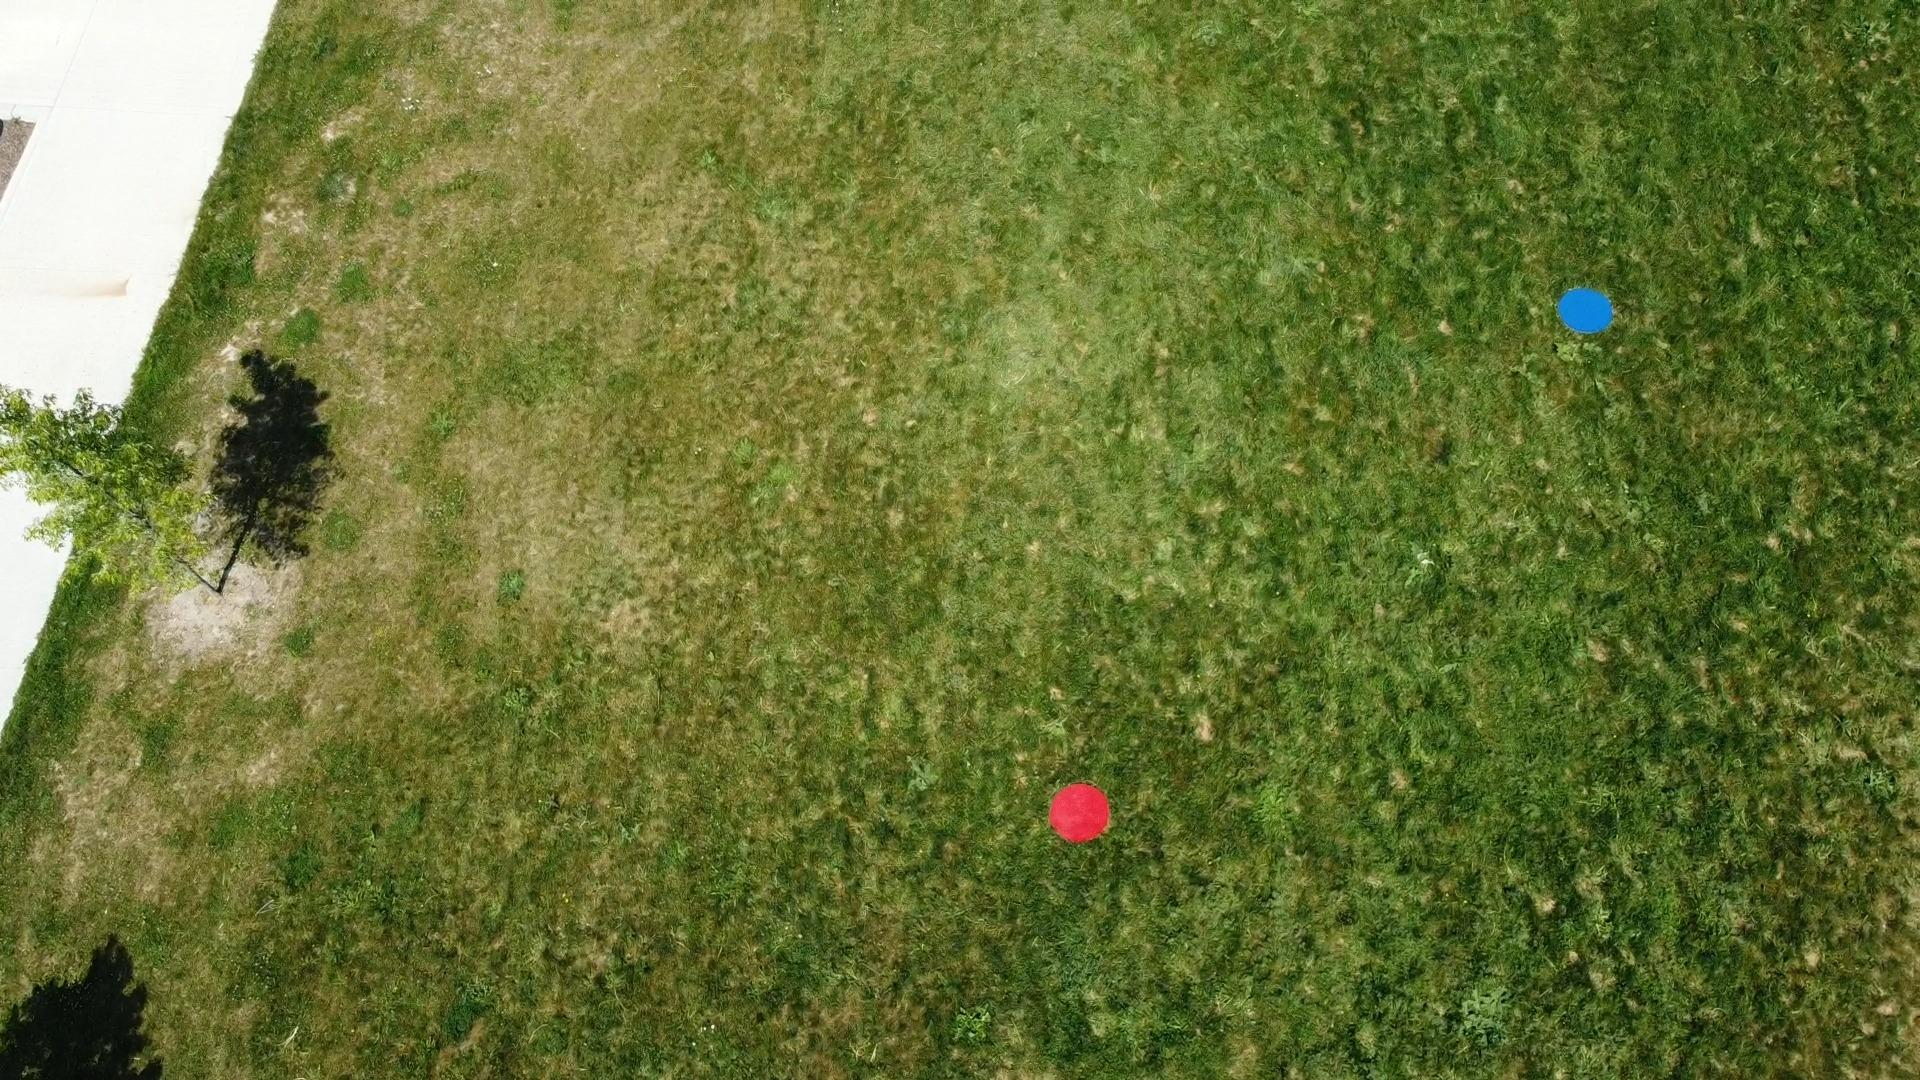Blue: (1555, 286, 1617, 336)
Red: (1047, 782, 1114, 845)
